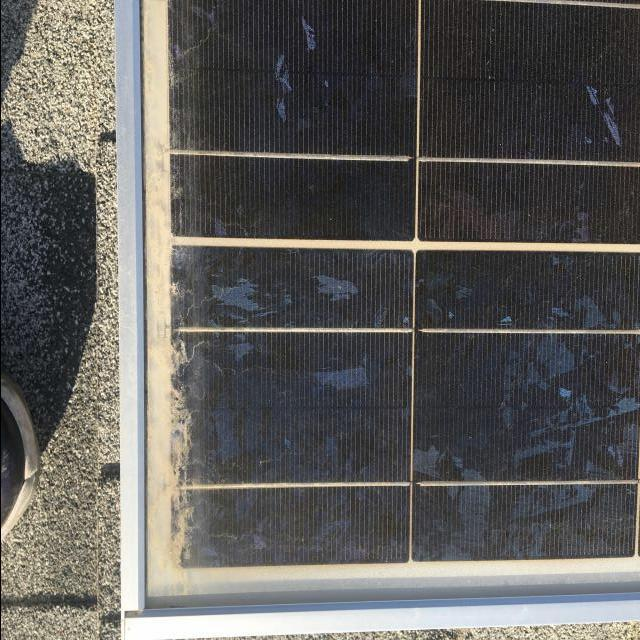no faulty: (130, 0, 640, 595)
